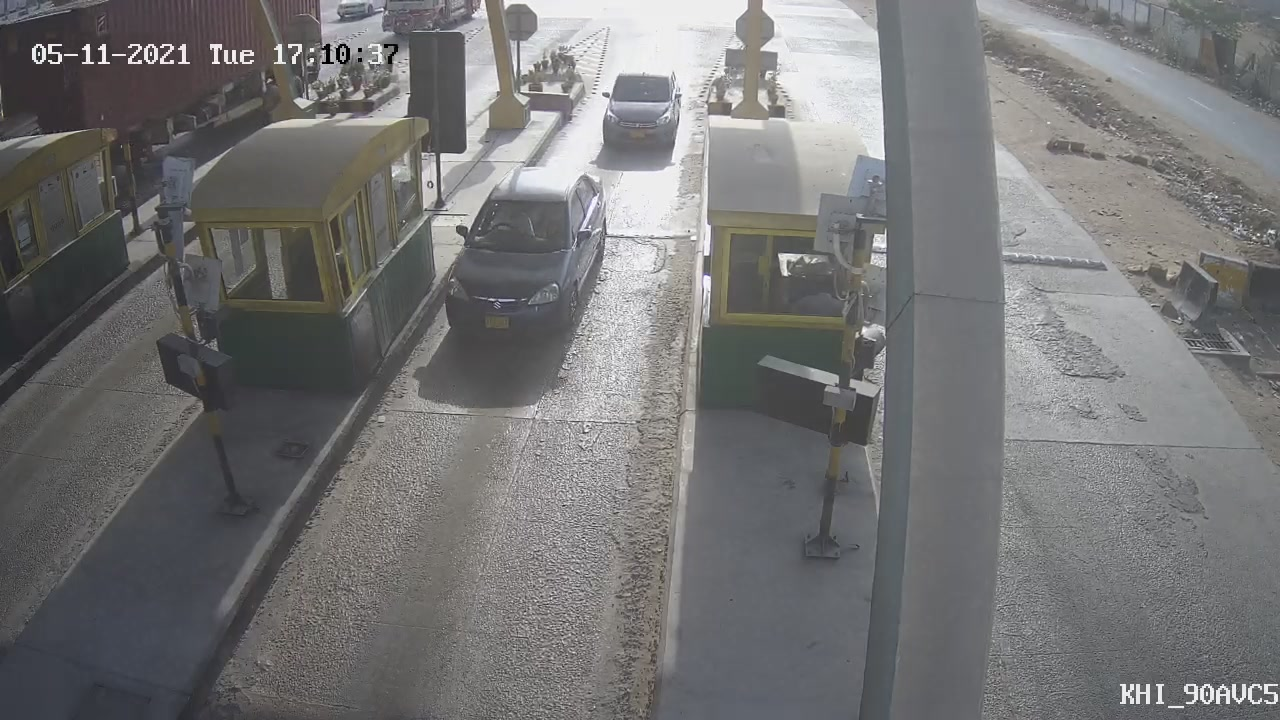F1: (422, 151, 626, 365), (587, 48, 695, 169)
